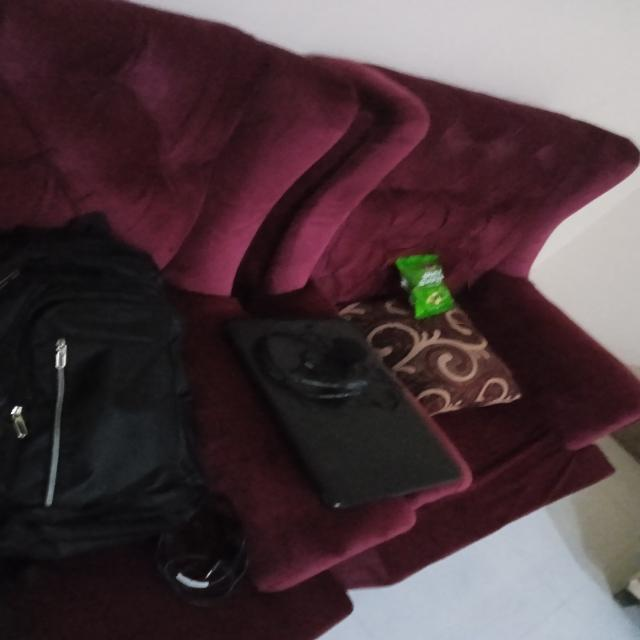Plastic: (388, 248, 470, 329)
